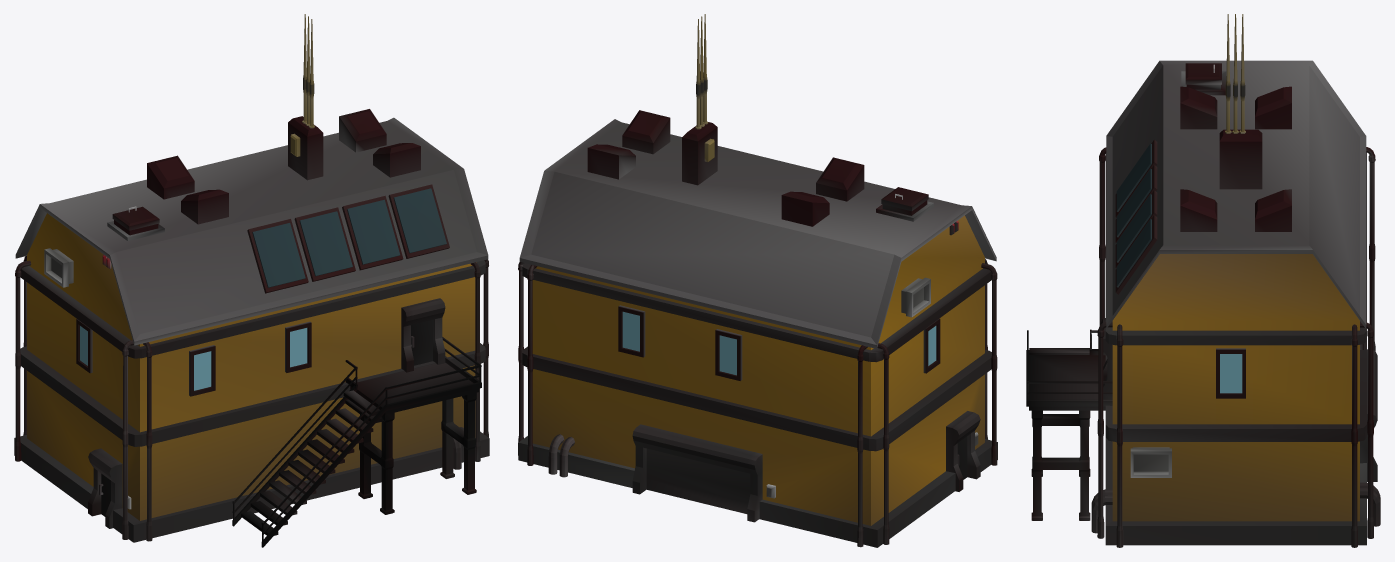
The model's file is edificacao5.fbx.
The picture shows the model from 3 angles, left to right: view 1: azimuth 30°, elevation 25°; view 2: azimuth 150°, elevation 25°; view 3: azimuth 270°, elevation 25°; orthographic projection. The views are drawn at different scales.
Visible parts, largest first — view 1: edificacao5; view 2: edificacao5; view 3: edificacao5.
Boxes of the visible parts, x1=… form: edificacao5: x1=14, y1=14, x2=489, y2=547; edificacao5: x1=518, y1=14, x2=997, y2=547; edificacao5: x1=1026, y1=14, x2=1380, y2=547.
Bounding box in the file's own units: 1711 × 1902 × 1307.
